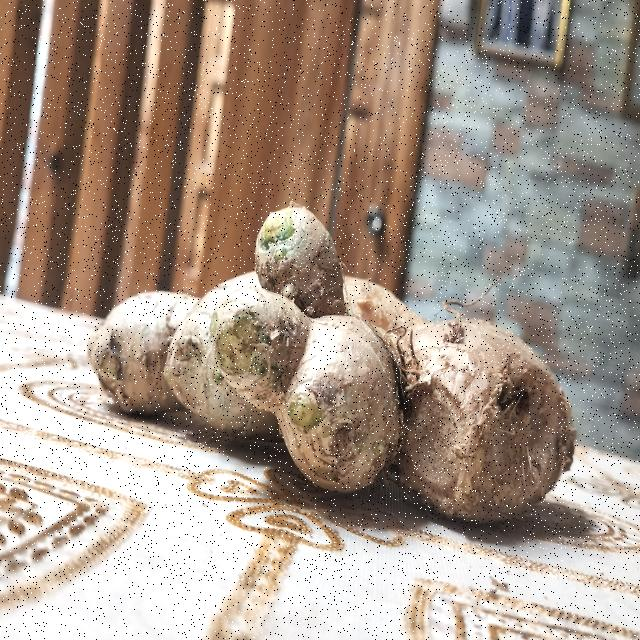ginger: (71, 192, 607, 520)
